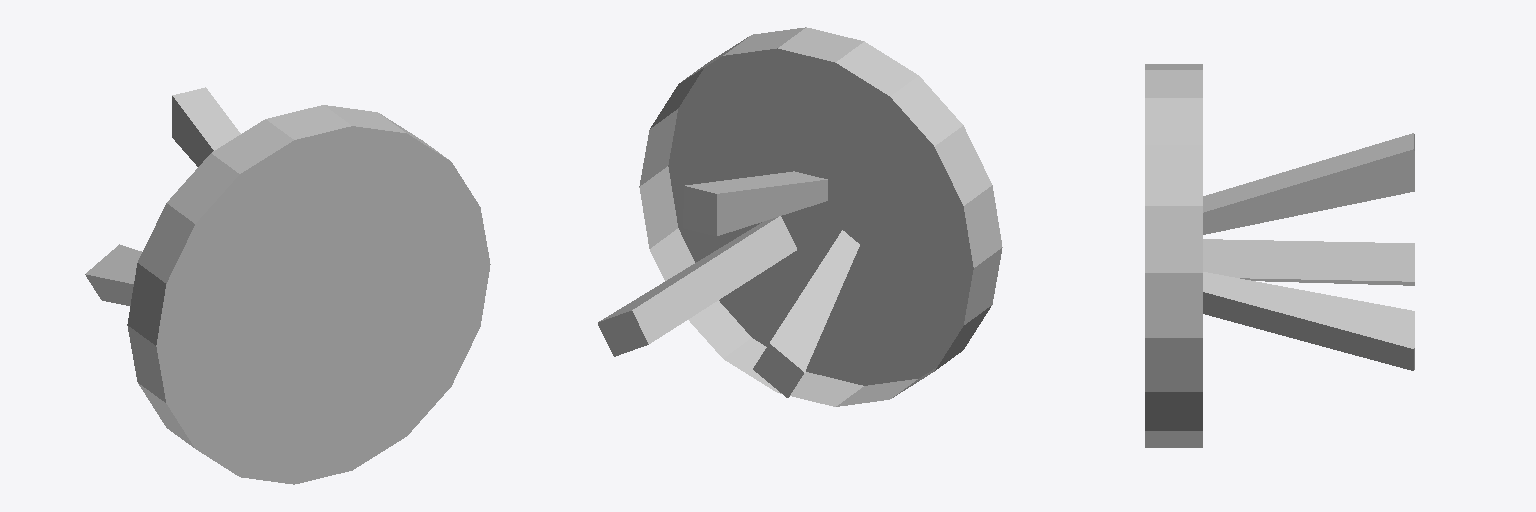
Rendered from desktop_mac.obj.
The picture shows the model from 3 angles: view 1: azimuth 30°, elevation 25°; view 2: azimuth 150°, elevation 25°; view 3: azimuth 270°, elevation 25°; orthographic projection.
Visible parts, largest first — view 1: Cylinder002; view 2: Cylinder002; view 3: Cylinder002.
Boxes of the visible parts, x1,y1,x2,y2 form: Cylinder002: [85, 87, 490, 484]; Cylinder002: [598, 27, 1002, 406]; Cylinder002: [1145, 64, 1414, 447].
Size of the model in its own units: 0.1 by 0.0985 by 0.0699.